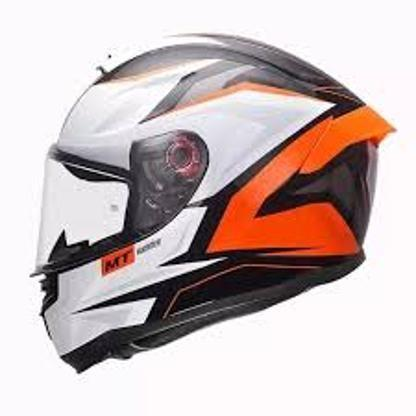not trash: (31, 32, 380, 374)
